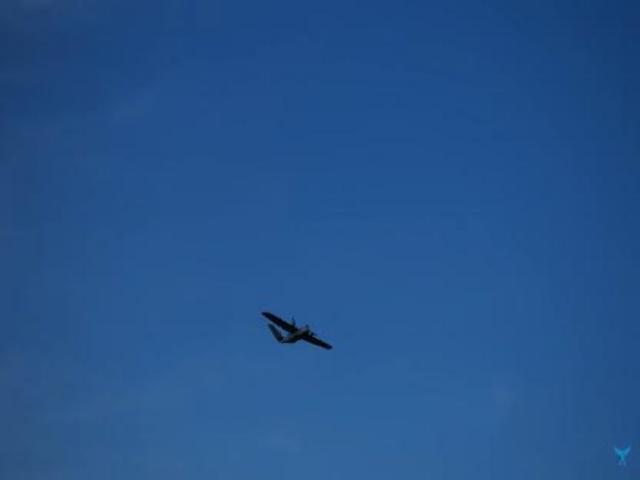uav: (255, 299, 338, 366)
